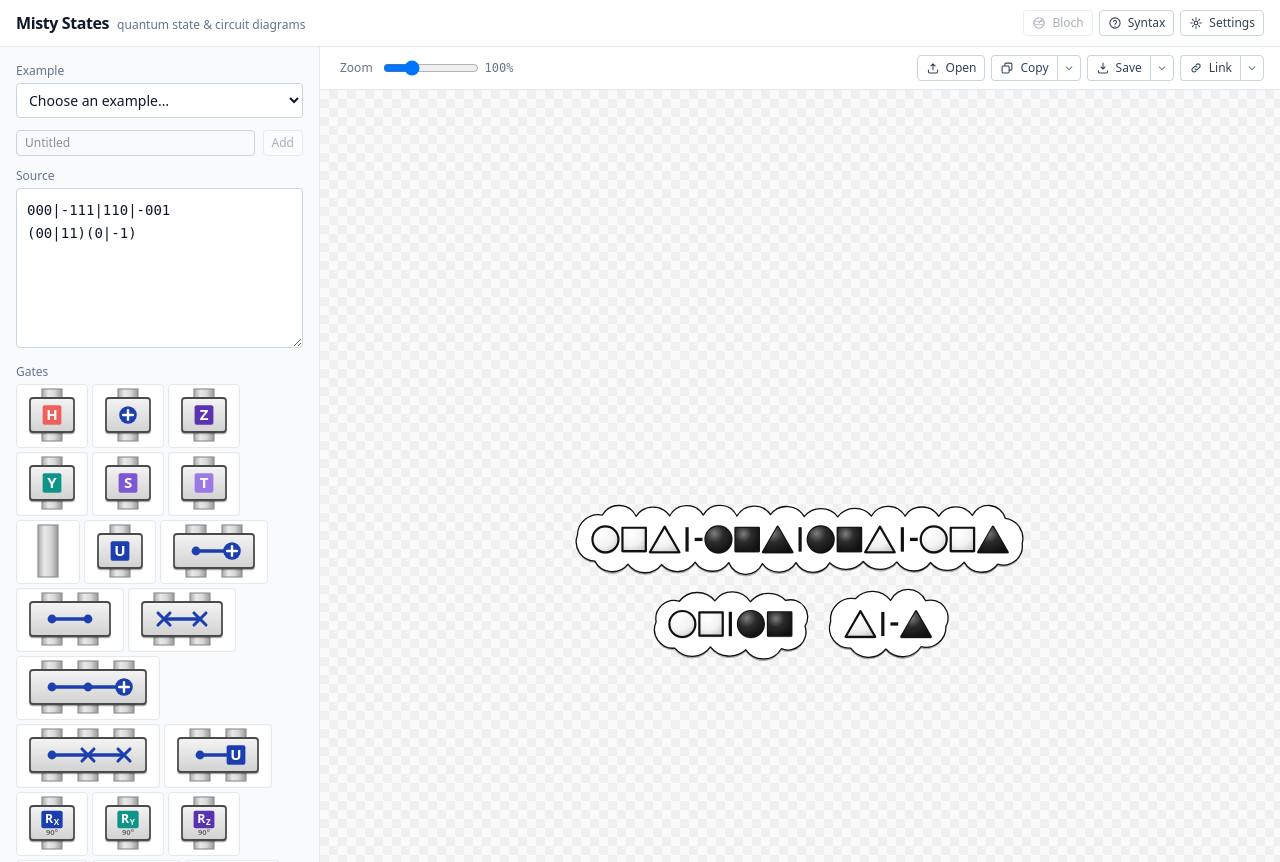
Test: the correctness badge › can be waved away, for a figure that is wrong on purpose
The width and height of the screenshot is (1280, 862).
Replace the text in the text box labelled "Source" with "00|01 = 0(0|-1)" at (160, 268), box [16, 188, 303, 348]
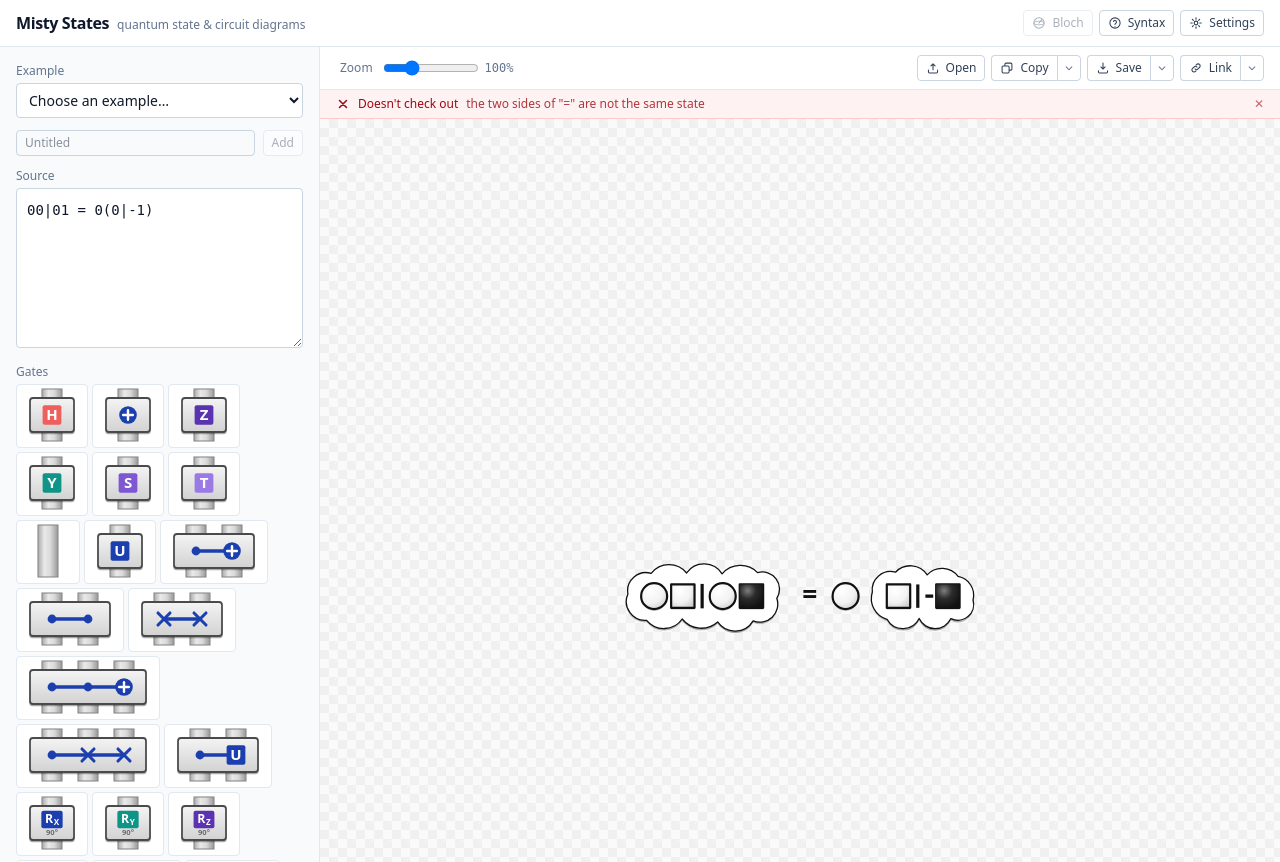
Click the button named "Dismiss the check" at (1259, 104), box [1250, 96, 1268, 112]
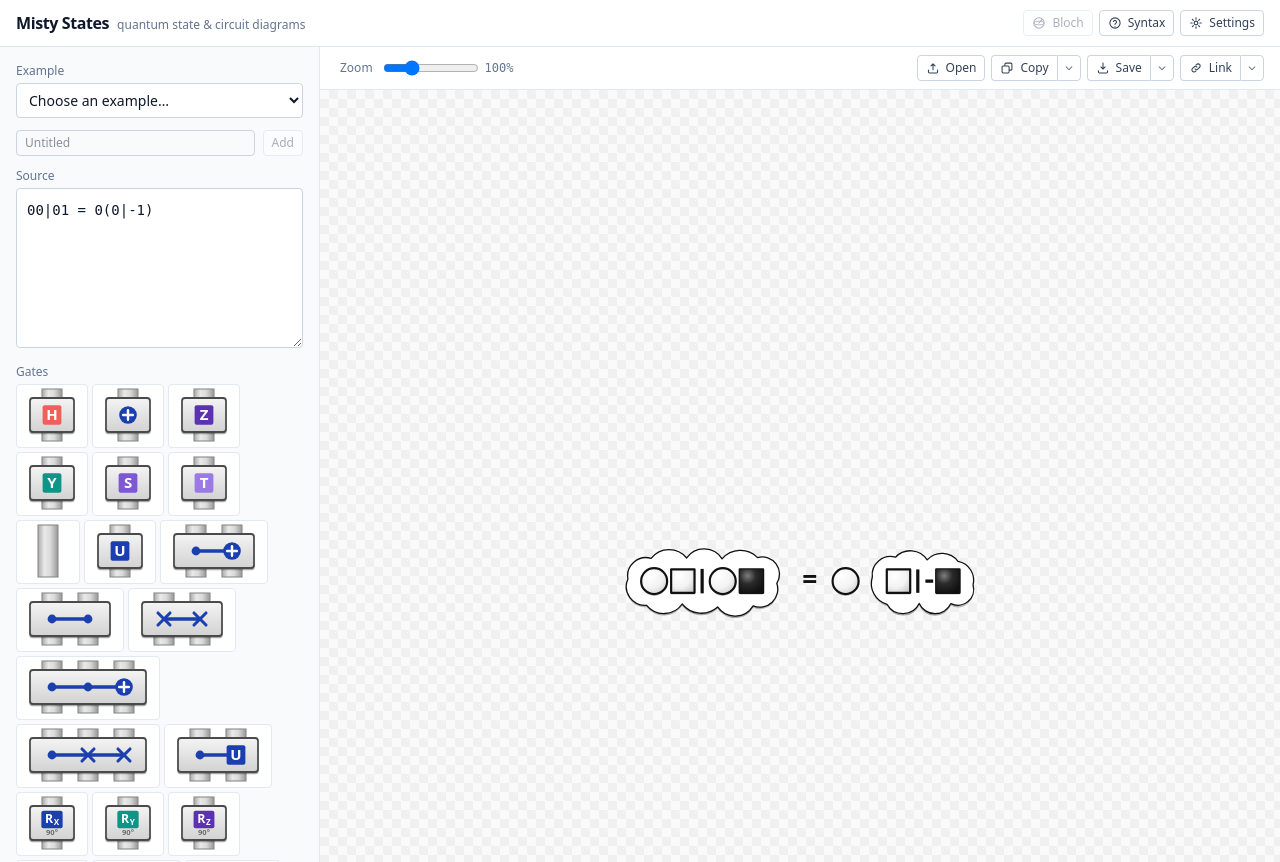
Expected: the message "Doesn't check out the two sides of \"=\" are not the same state ✕" is gone
